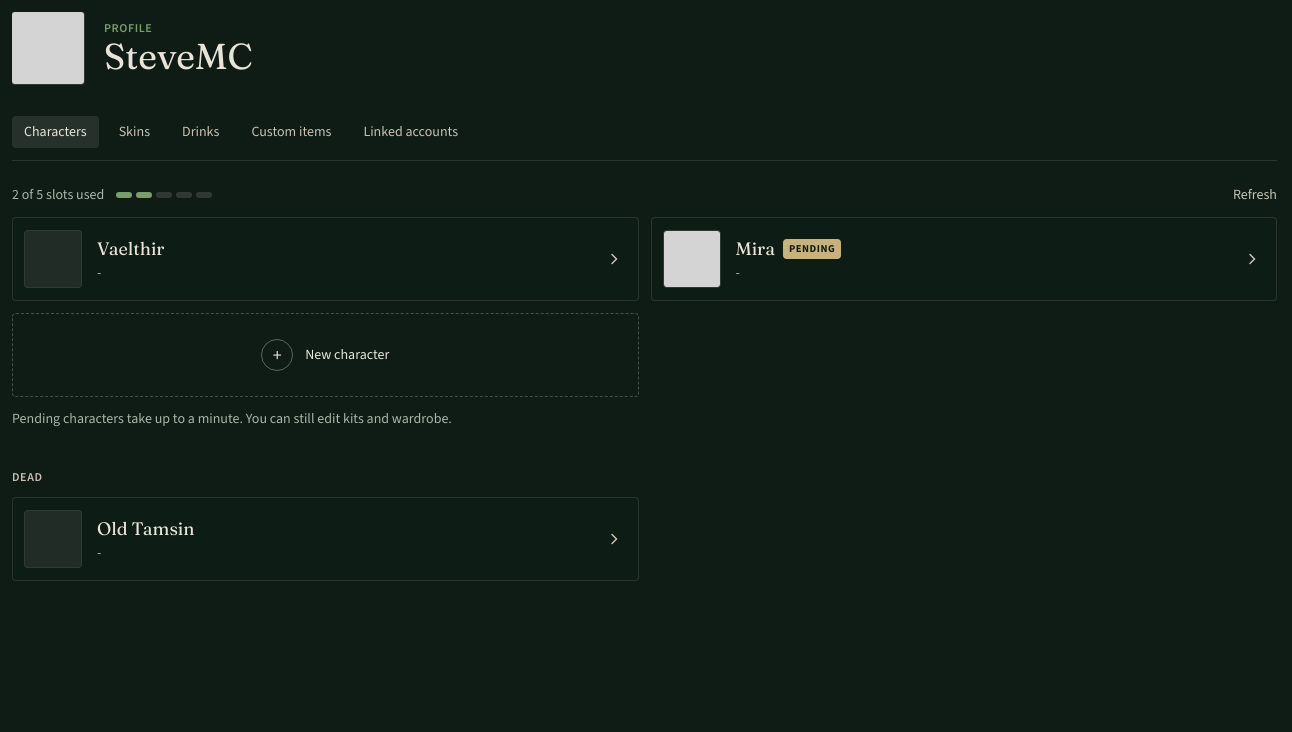
Test: opens a dead character's memorial: death, heir and where the estate went
Click the link "Old Tamsin -".
click(53, 539)  # box [12,497,638,581]
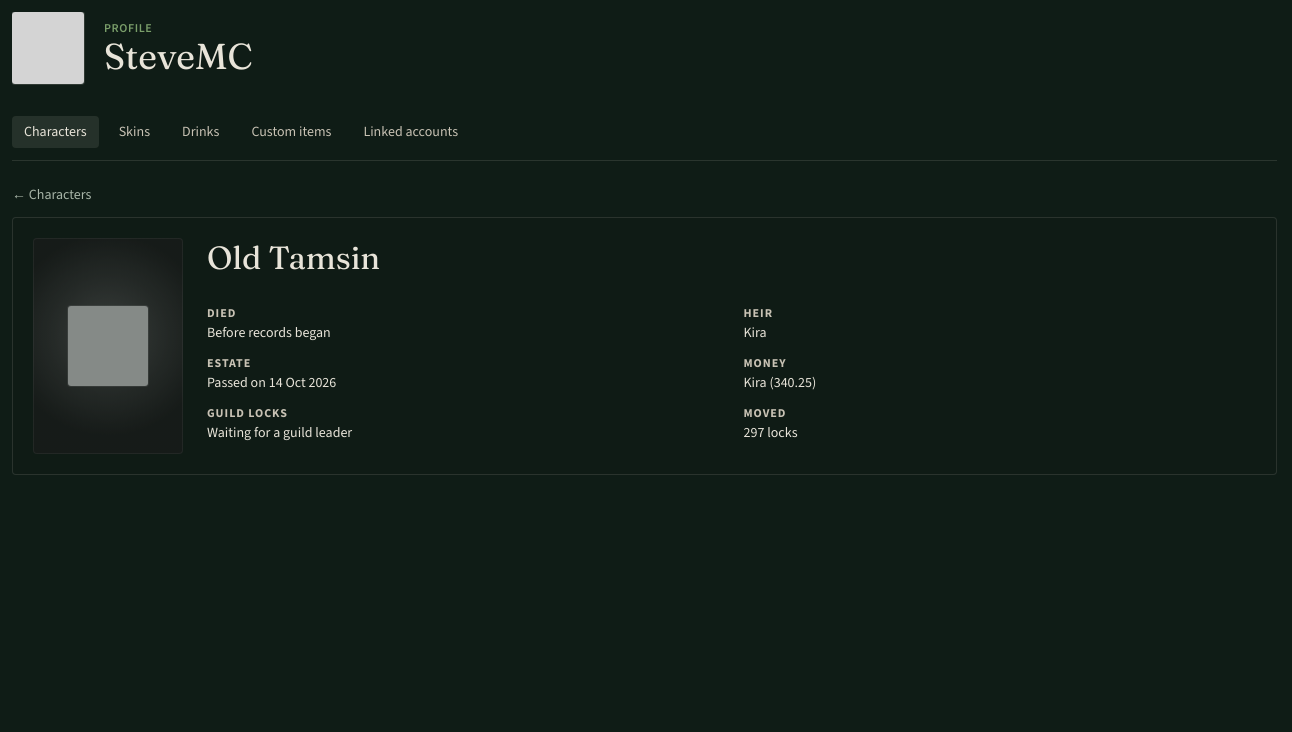
Check: the text "Before records began" is shown, box [207,323,331,342]
Check: the text "Kira" is shown, box [744,323,767,342]
Check: the text "Passed on 14 Oct 2026" is shown, box [207,373,336,392]
